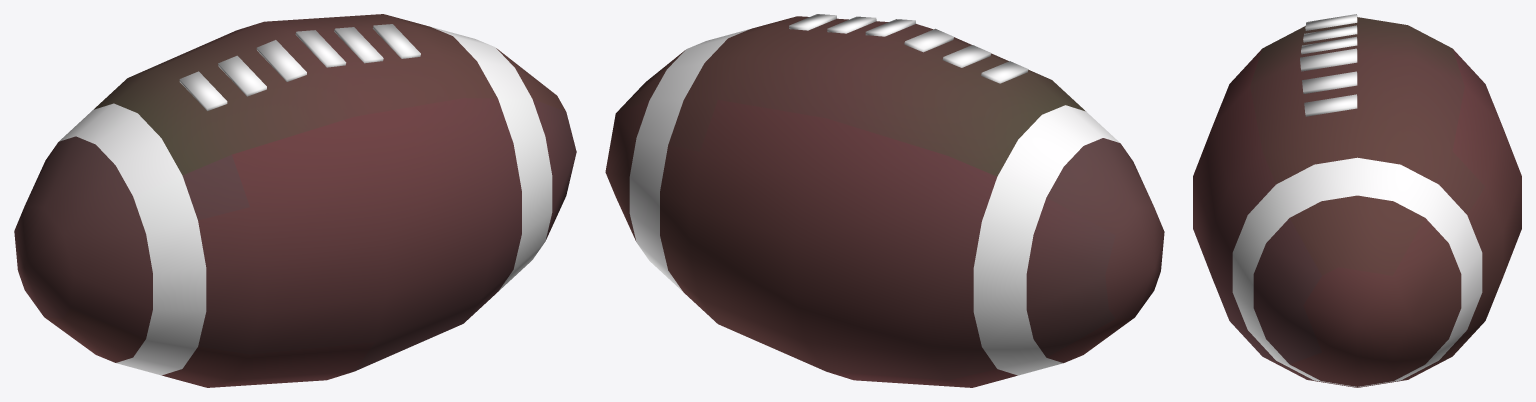
The model's file is football.glb.
3 views of the same model, side by side, from view 1: azimuth 30°, elevation 25°; view 2: azimuth 150°, elevation 25°; view 3: azimuth 270°, elevation 25° (orthographic). The views are drawn at different scales.
Bounding box in the file's own units: 0.5551 × 0.3281 × 0.3201.
1 material, 1 textured.
